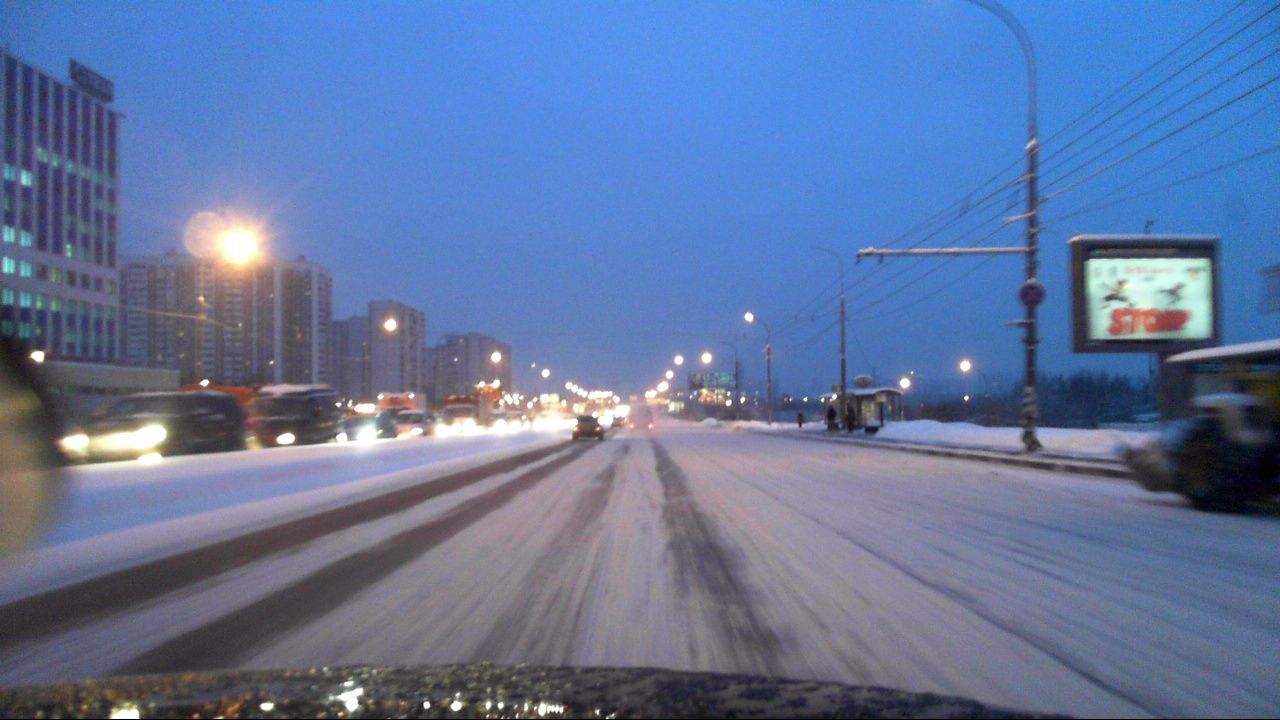No Parking: (1015, 276, 1044, 308)
